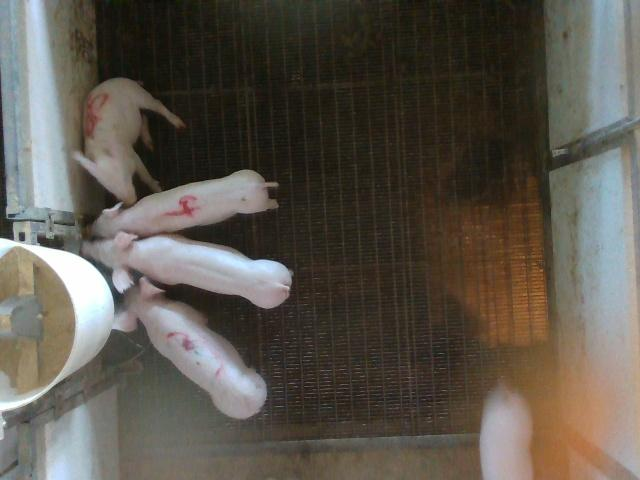pig-3: (114, 276, 266, 419)
pig-4: (91, 170, 278, 238)
pig-5: (72, 78, 185, 206)
